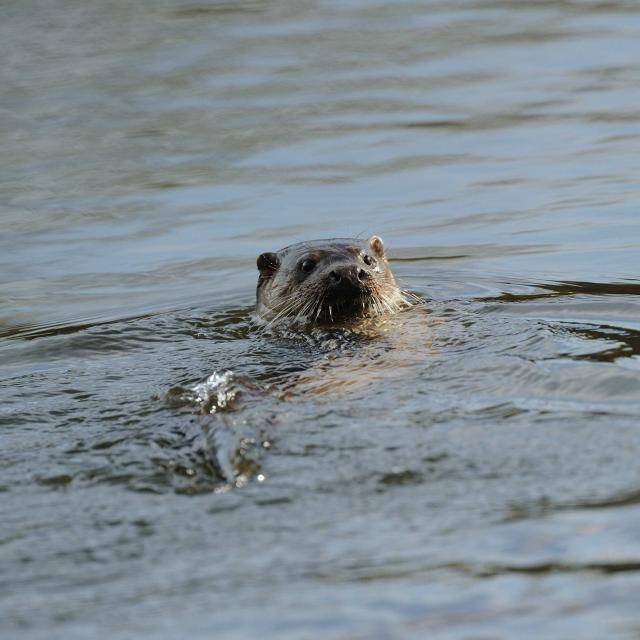otter: (251, 234, 403, 322)
